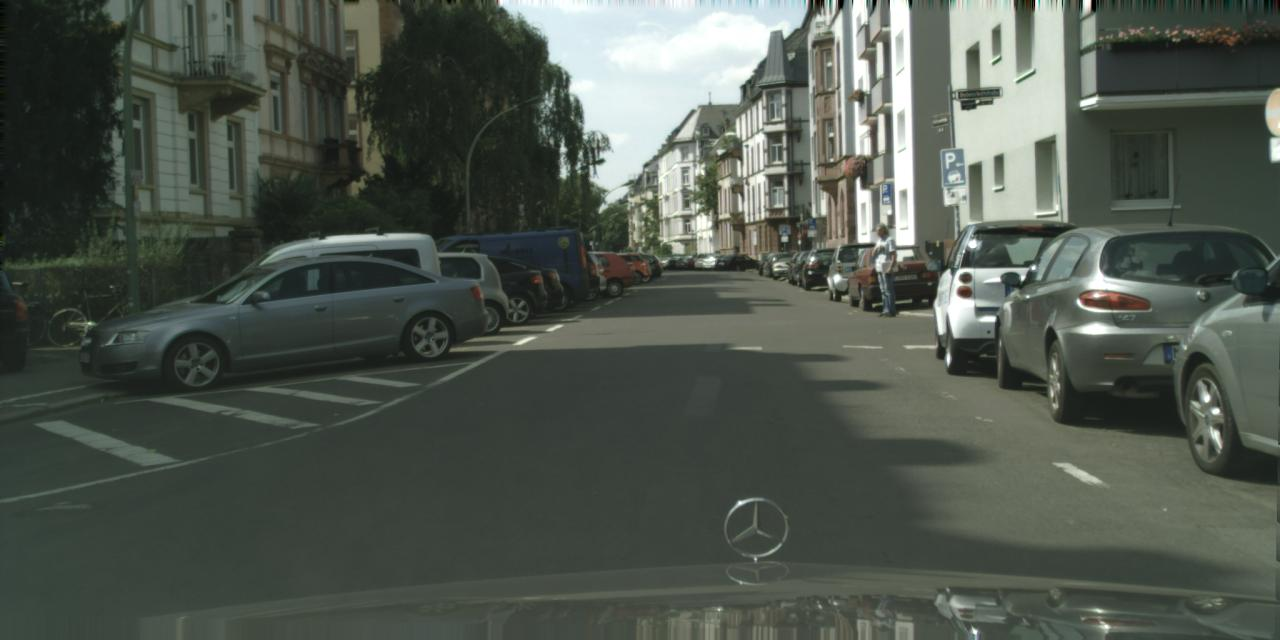ped: (866, 222, 904, 315)
